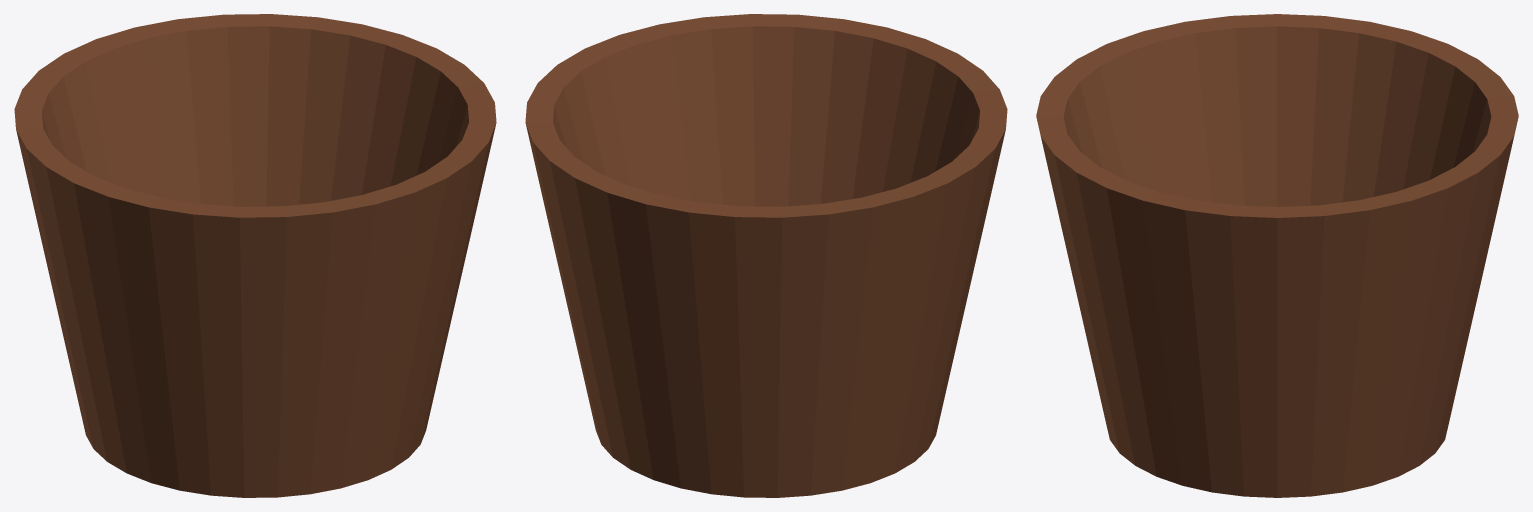
Rendered from bucket.fbx.
The picture shows the model from 3 angles, left to right: view 1: azimuth 30°, elevation 25°; view 2: azimuth 150°, elevation 25°; view 3: azimuth 270°, elevation 25°; orthographic projection.
Visible parts, largest first — view 1: Cylinder; view 2: Cylinder; view 3: Cylinder.
Boxes of the visible parts, <box> form: Cylinder: <box>14,14,496,497</box>; Cylinder: <box>525,14,1007,497</box>; Cylinder: <box>1036,14,1518,497</box>.
Size of the model in its own units: 282 by 200 by 282.
